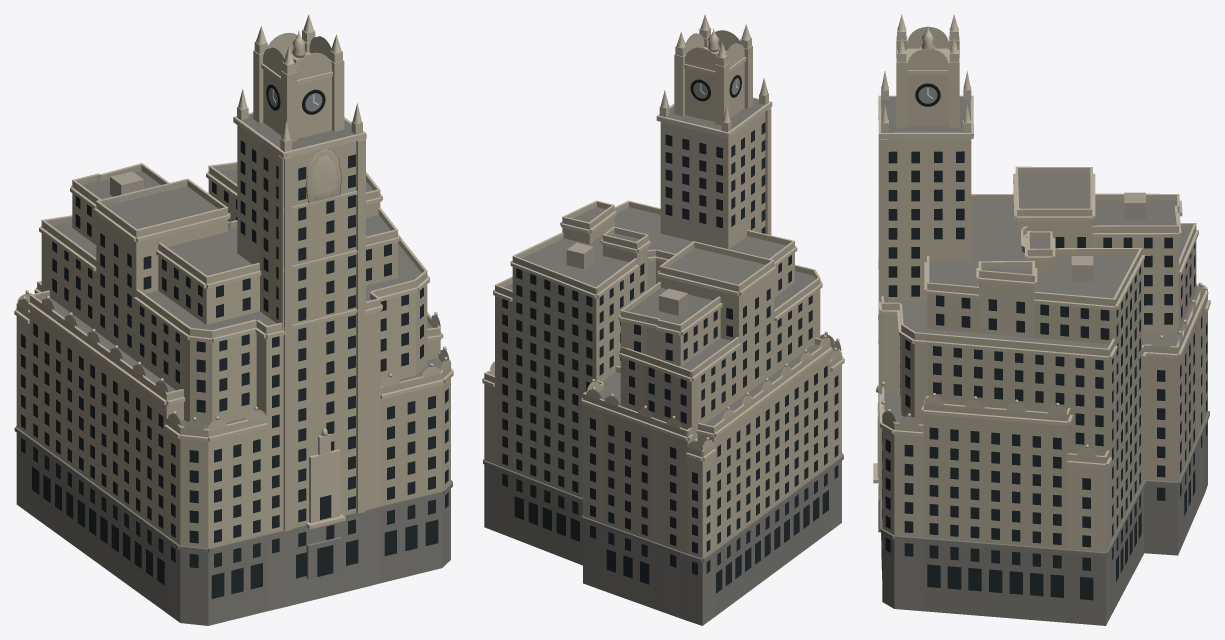
The picture shows the model from 3 angles, left to right: view 1: azimuth 30°, elevation 25°; view 2: azimuth 150°, elevation 25°; view 3: azimuth 270°, elevation 25°; orthographic projection. The views are drawn at different scales.
Visible parts, largest first — view 1: edificio_telefonica, windows, roofs; view 2: edificio_telefonica, windows, roofs; view 3: edificio_telefonica, windows, roofs.
Part boxes in pixels (bbox=[...]): edificio_telefonica: bbox=[14, 14, 453, 625]; windows: bbox=[21, 84, 448, 598]; roofs: bbox=[40, 113, 442, 429]; edificio_telefonica: bbox=[482, 14, 844, 625]; windows: bbox=[502, 75, 838, 593]; roofs: bbox=[493, 98, 834, 446]; edificio_telefonica: bbox=[873, 14, 1210, 625]; windows: bbox=[882, 83, 1207, 600]; roofs: bbox=[881, 96, 1197, 424].
Size of the model in its own units: 55 by 93 by 54.52.
